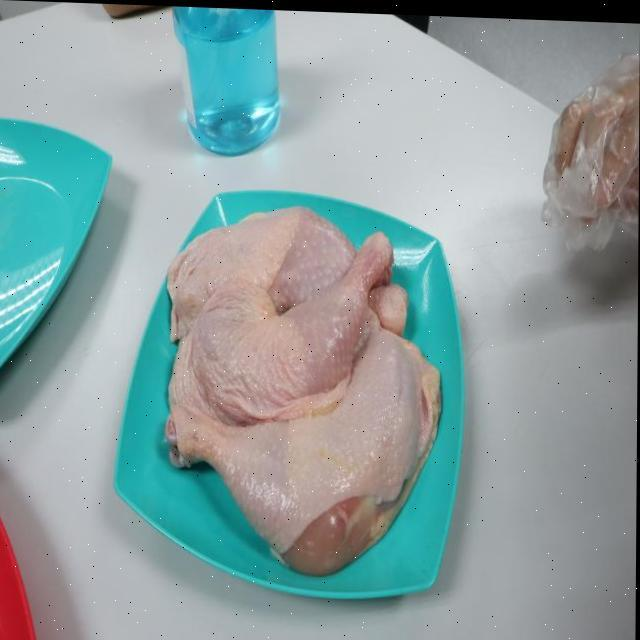quater: (140, 322, 477, 587), (196, 230, 425, 424), (175, 200, 412, 327)
